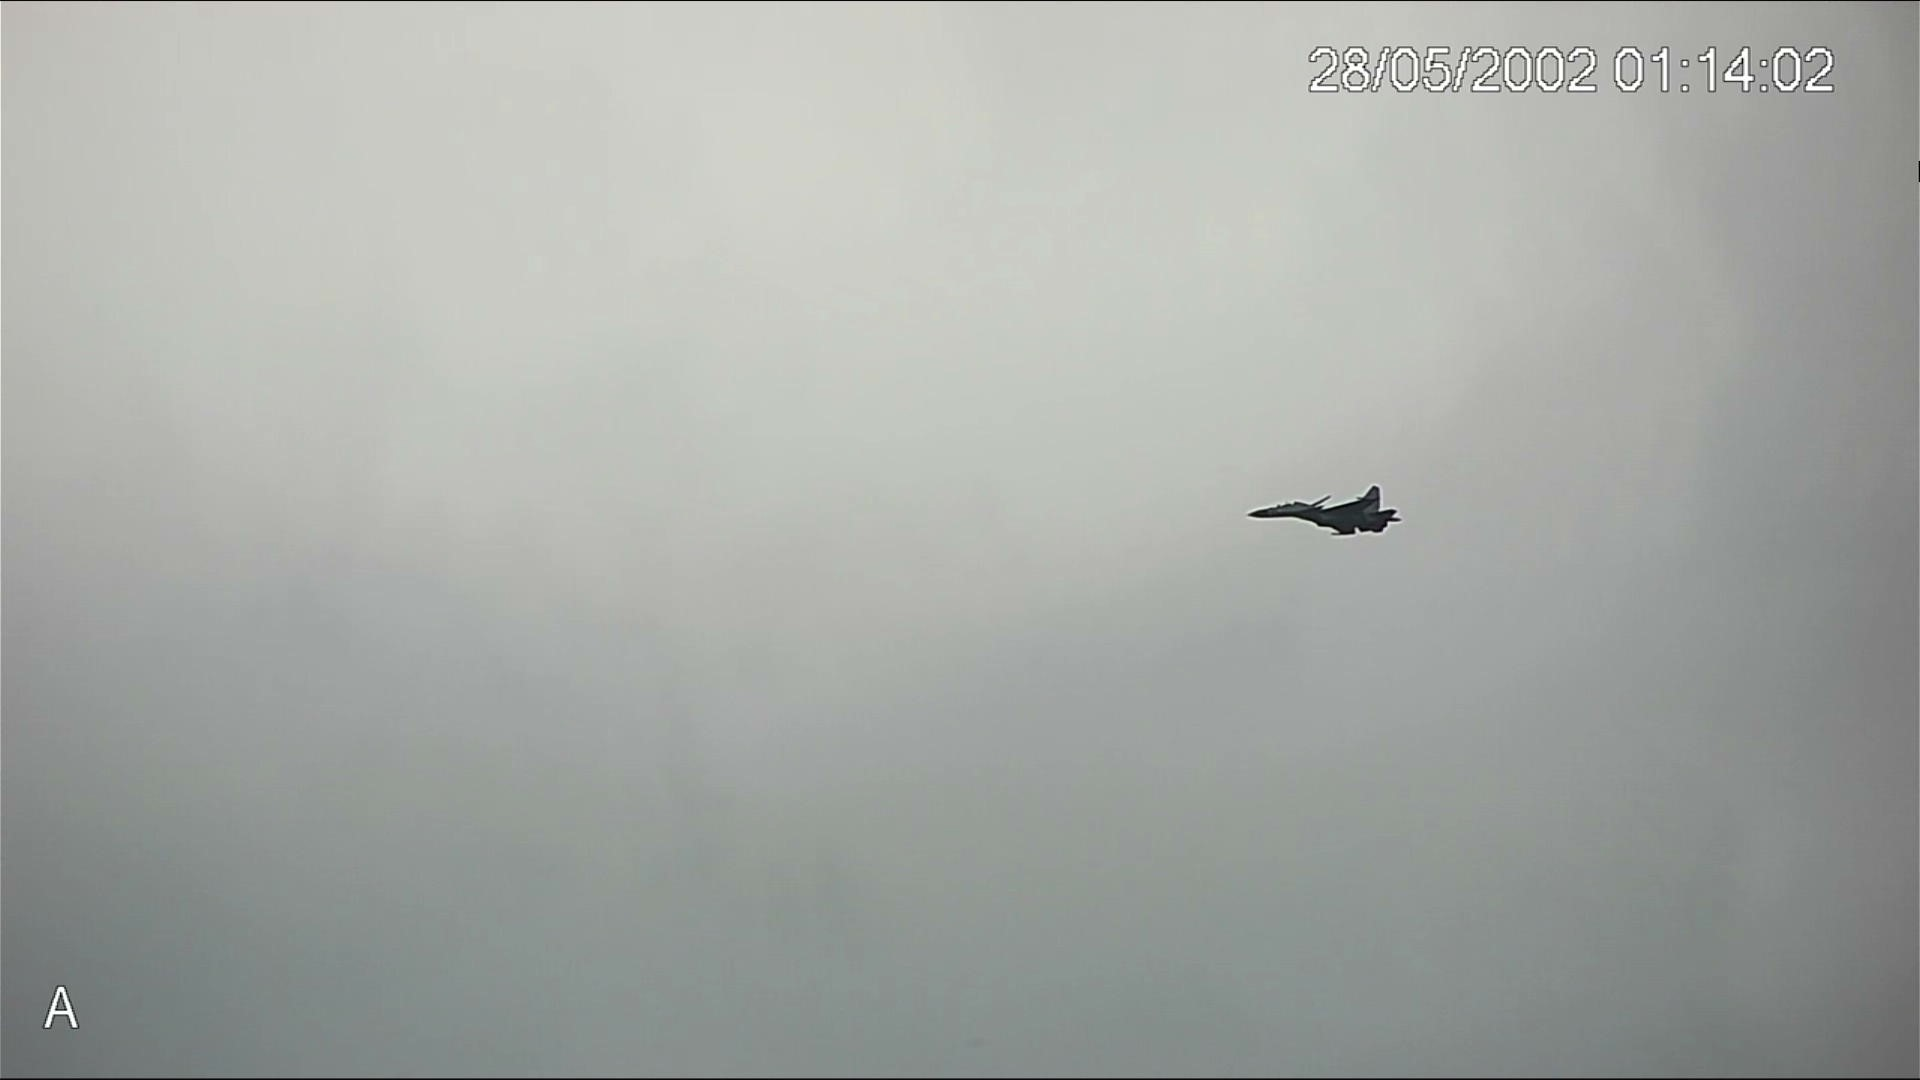SU_30: (1242, 477, 1411, 545)
